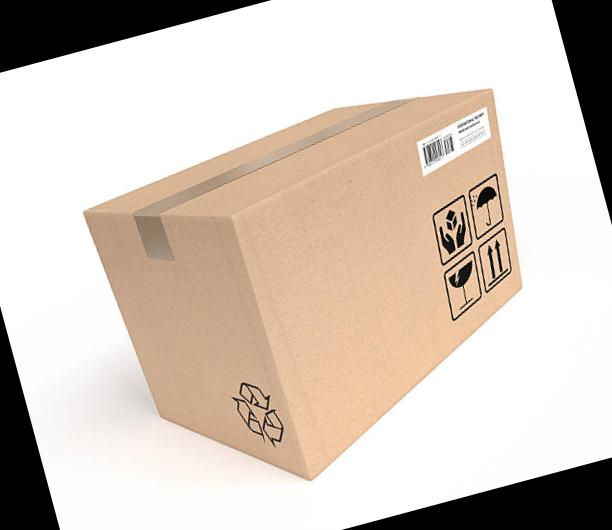cardboard: (50, 47, 606, 521)
